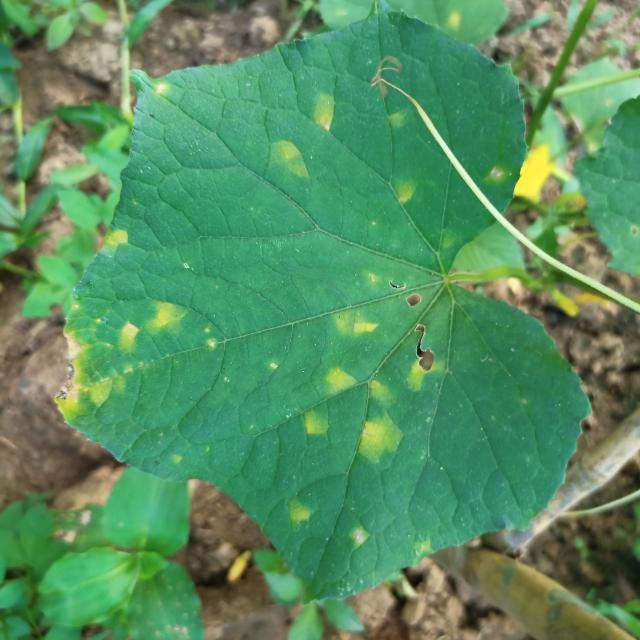disease_cucumber: (292, 263, 451, 469), (55, 292, 194, 428), (268, 85, 342, 193), (273, 491, 334, 538), (386, 171, 421, 217), (103, 222, 134, 262)
